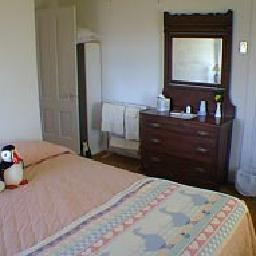Cama: (7, 149, 242, 255)
Puerta: (37, 6, 79, 146)
